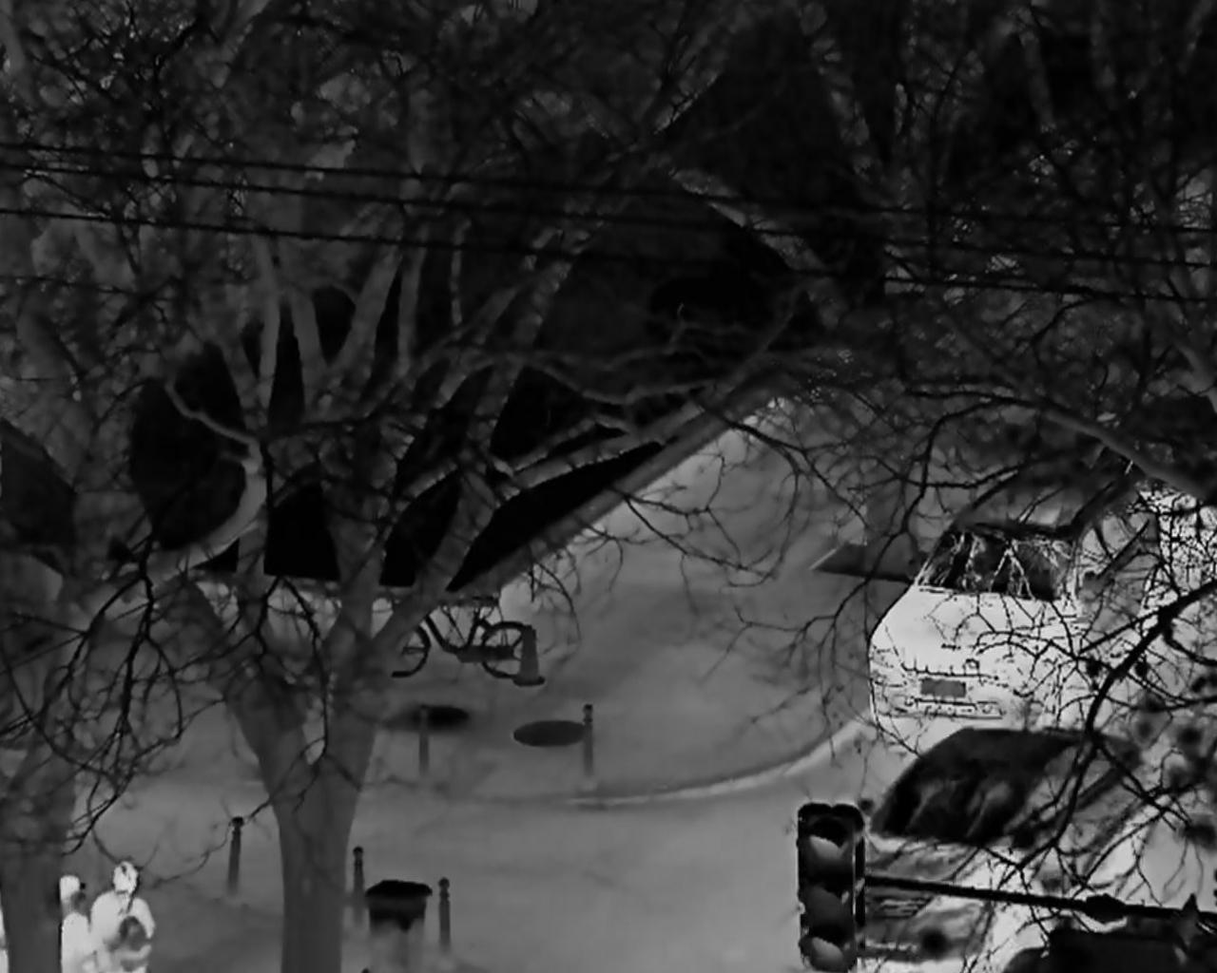person: (88, 862, 156, 973), (60, 873, 87, 973)
